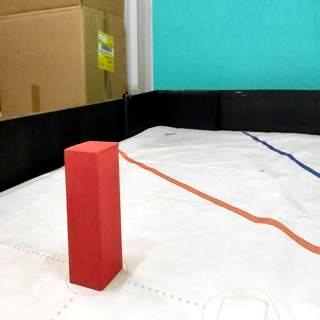redbox: (64, 140, 124, 292)
